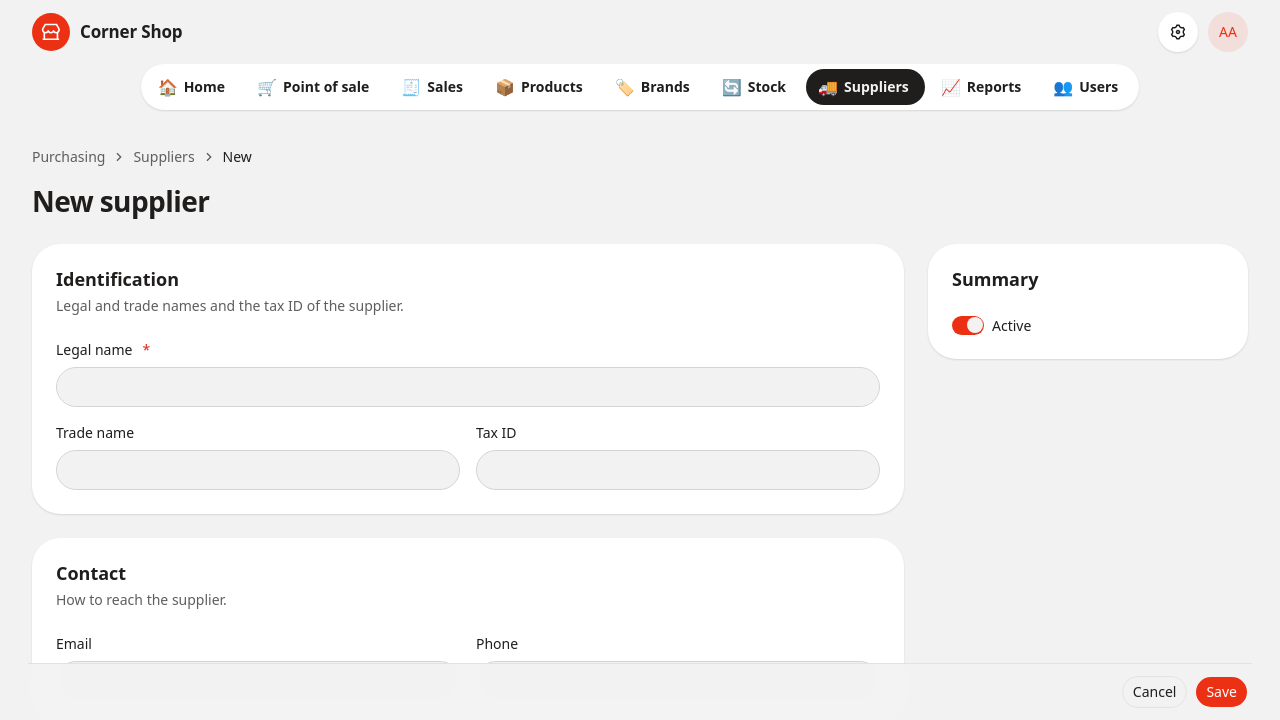
SupplierFormPage › creates a supplier and navigates to /suppliers
Type "Acme Ltda" into the field labelled "Legal name" at coordinates (468, 387), box [56,367,880,407]
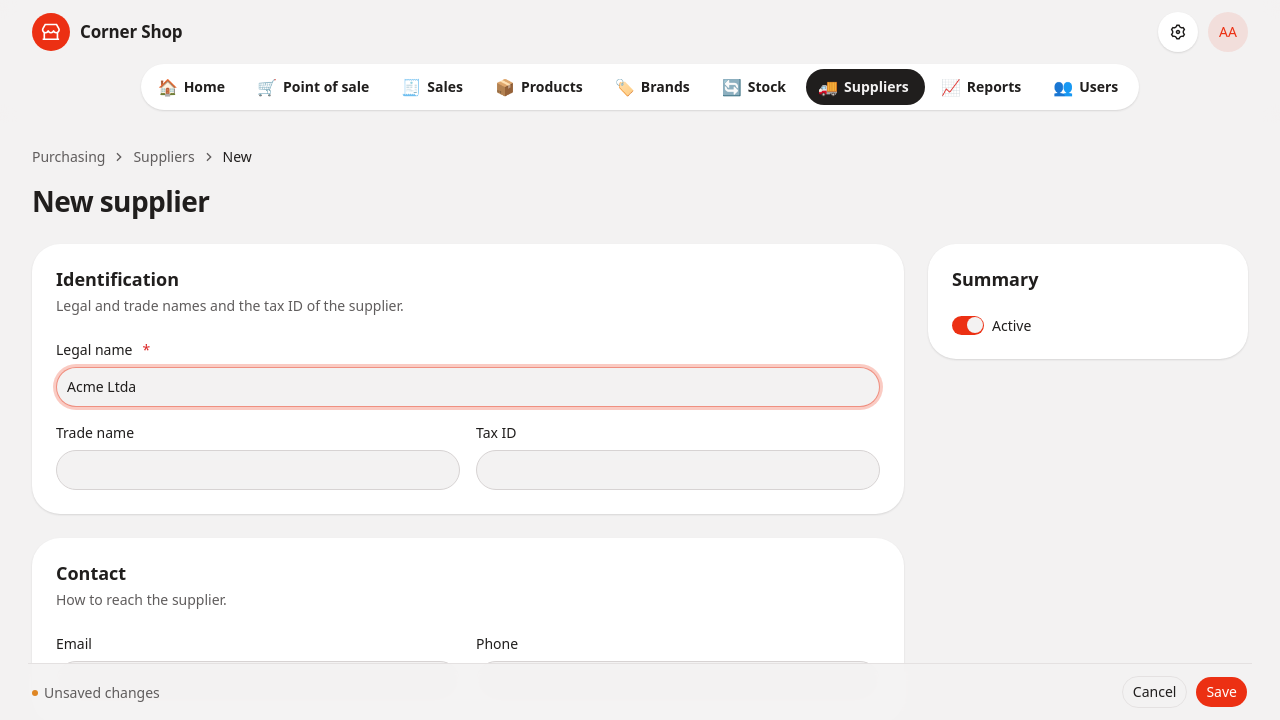
Type "12.345.678/0001-90" into the field labelled "Tax ID" at coordinates (678, 470), box [476,450,880,490]
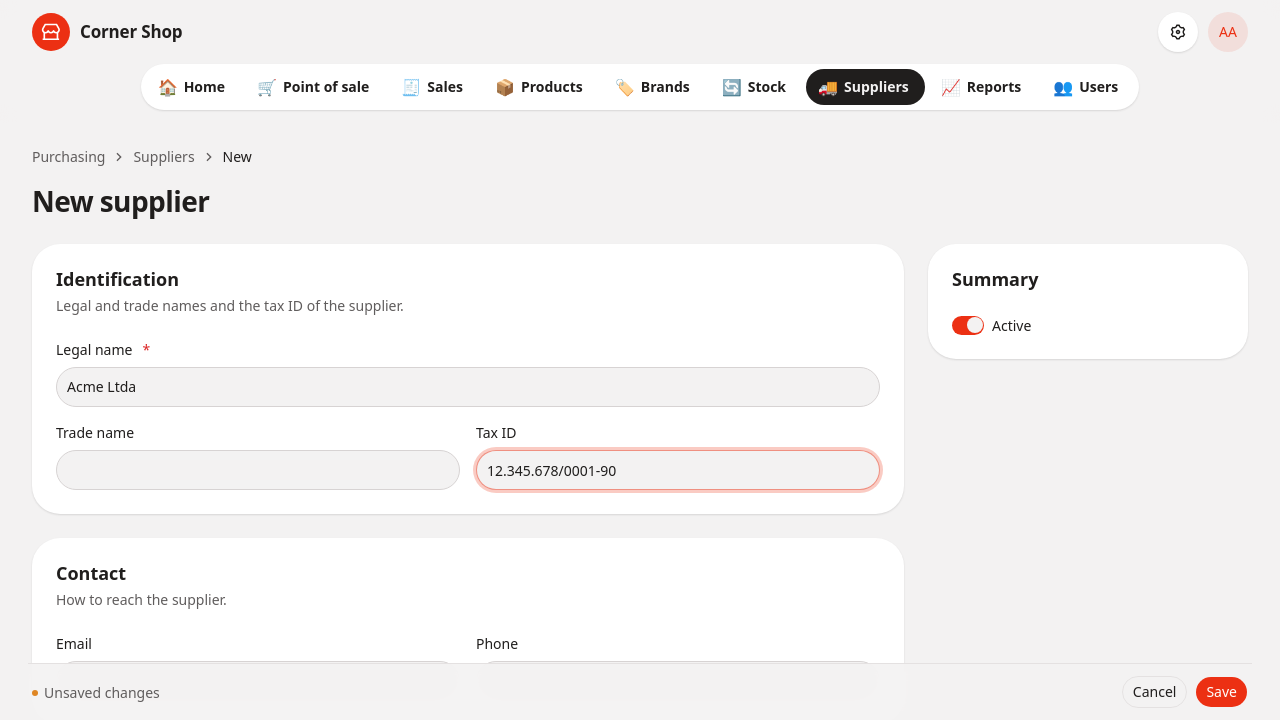
Click the button "Save" at coordinates (1222, 692), box [1195,676,1248,708]
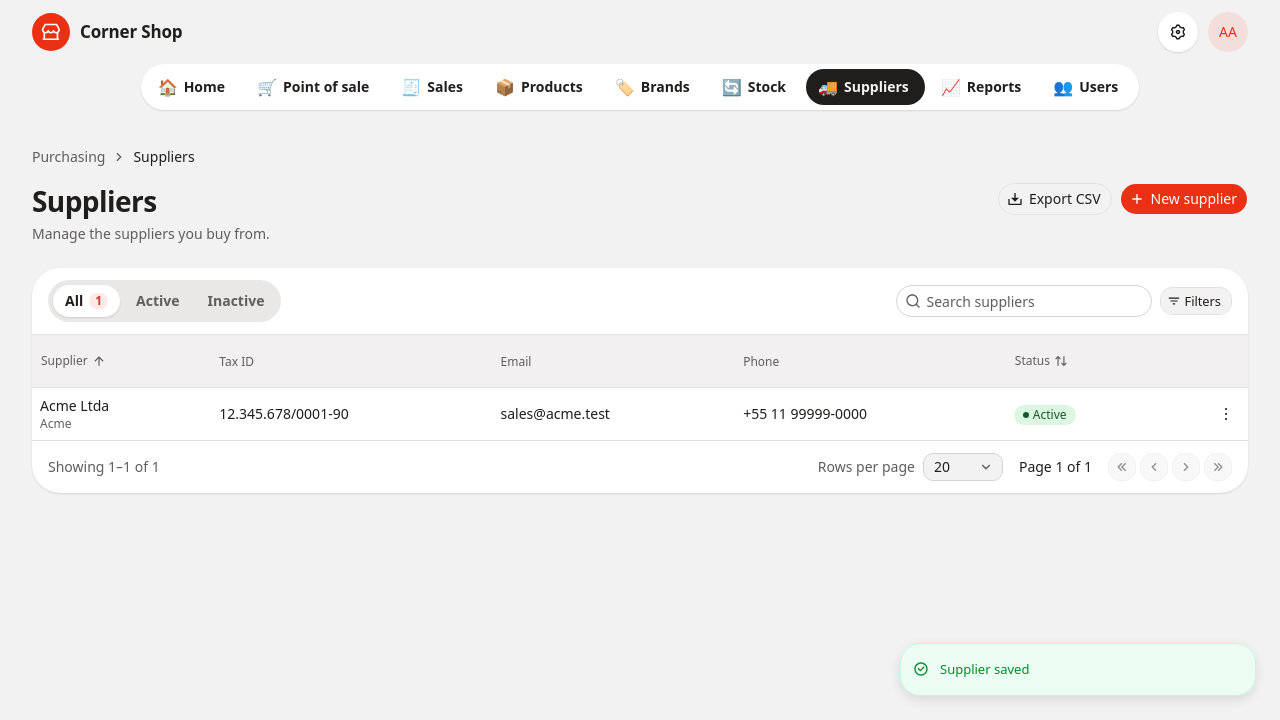
Result: the text "Supplier saved" is shown at [940,660,1029,679]
